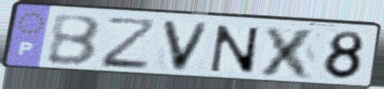8: (319, 29, 365, 83)
B: (45, 14, 103, 68)
N: (208, 23, 261, 76)
V: (159, 18, 214, 74)
X: (256, 24, 321, 81)
Z: (100, 16, 159, 72)
